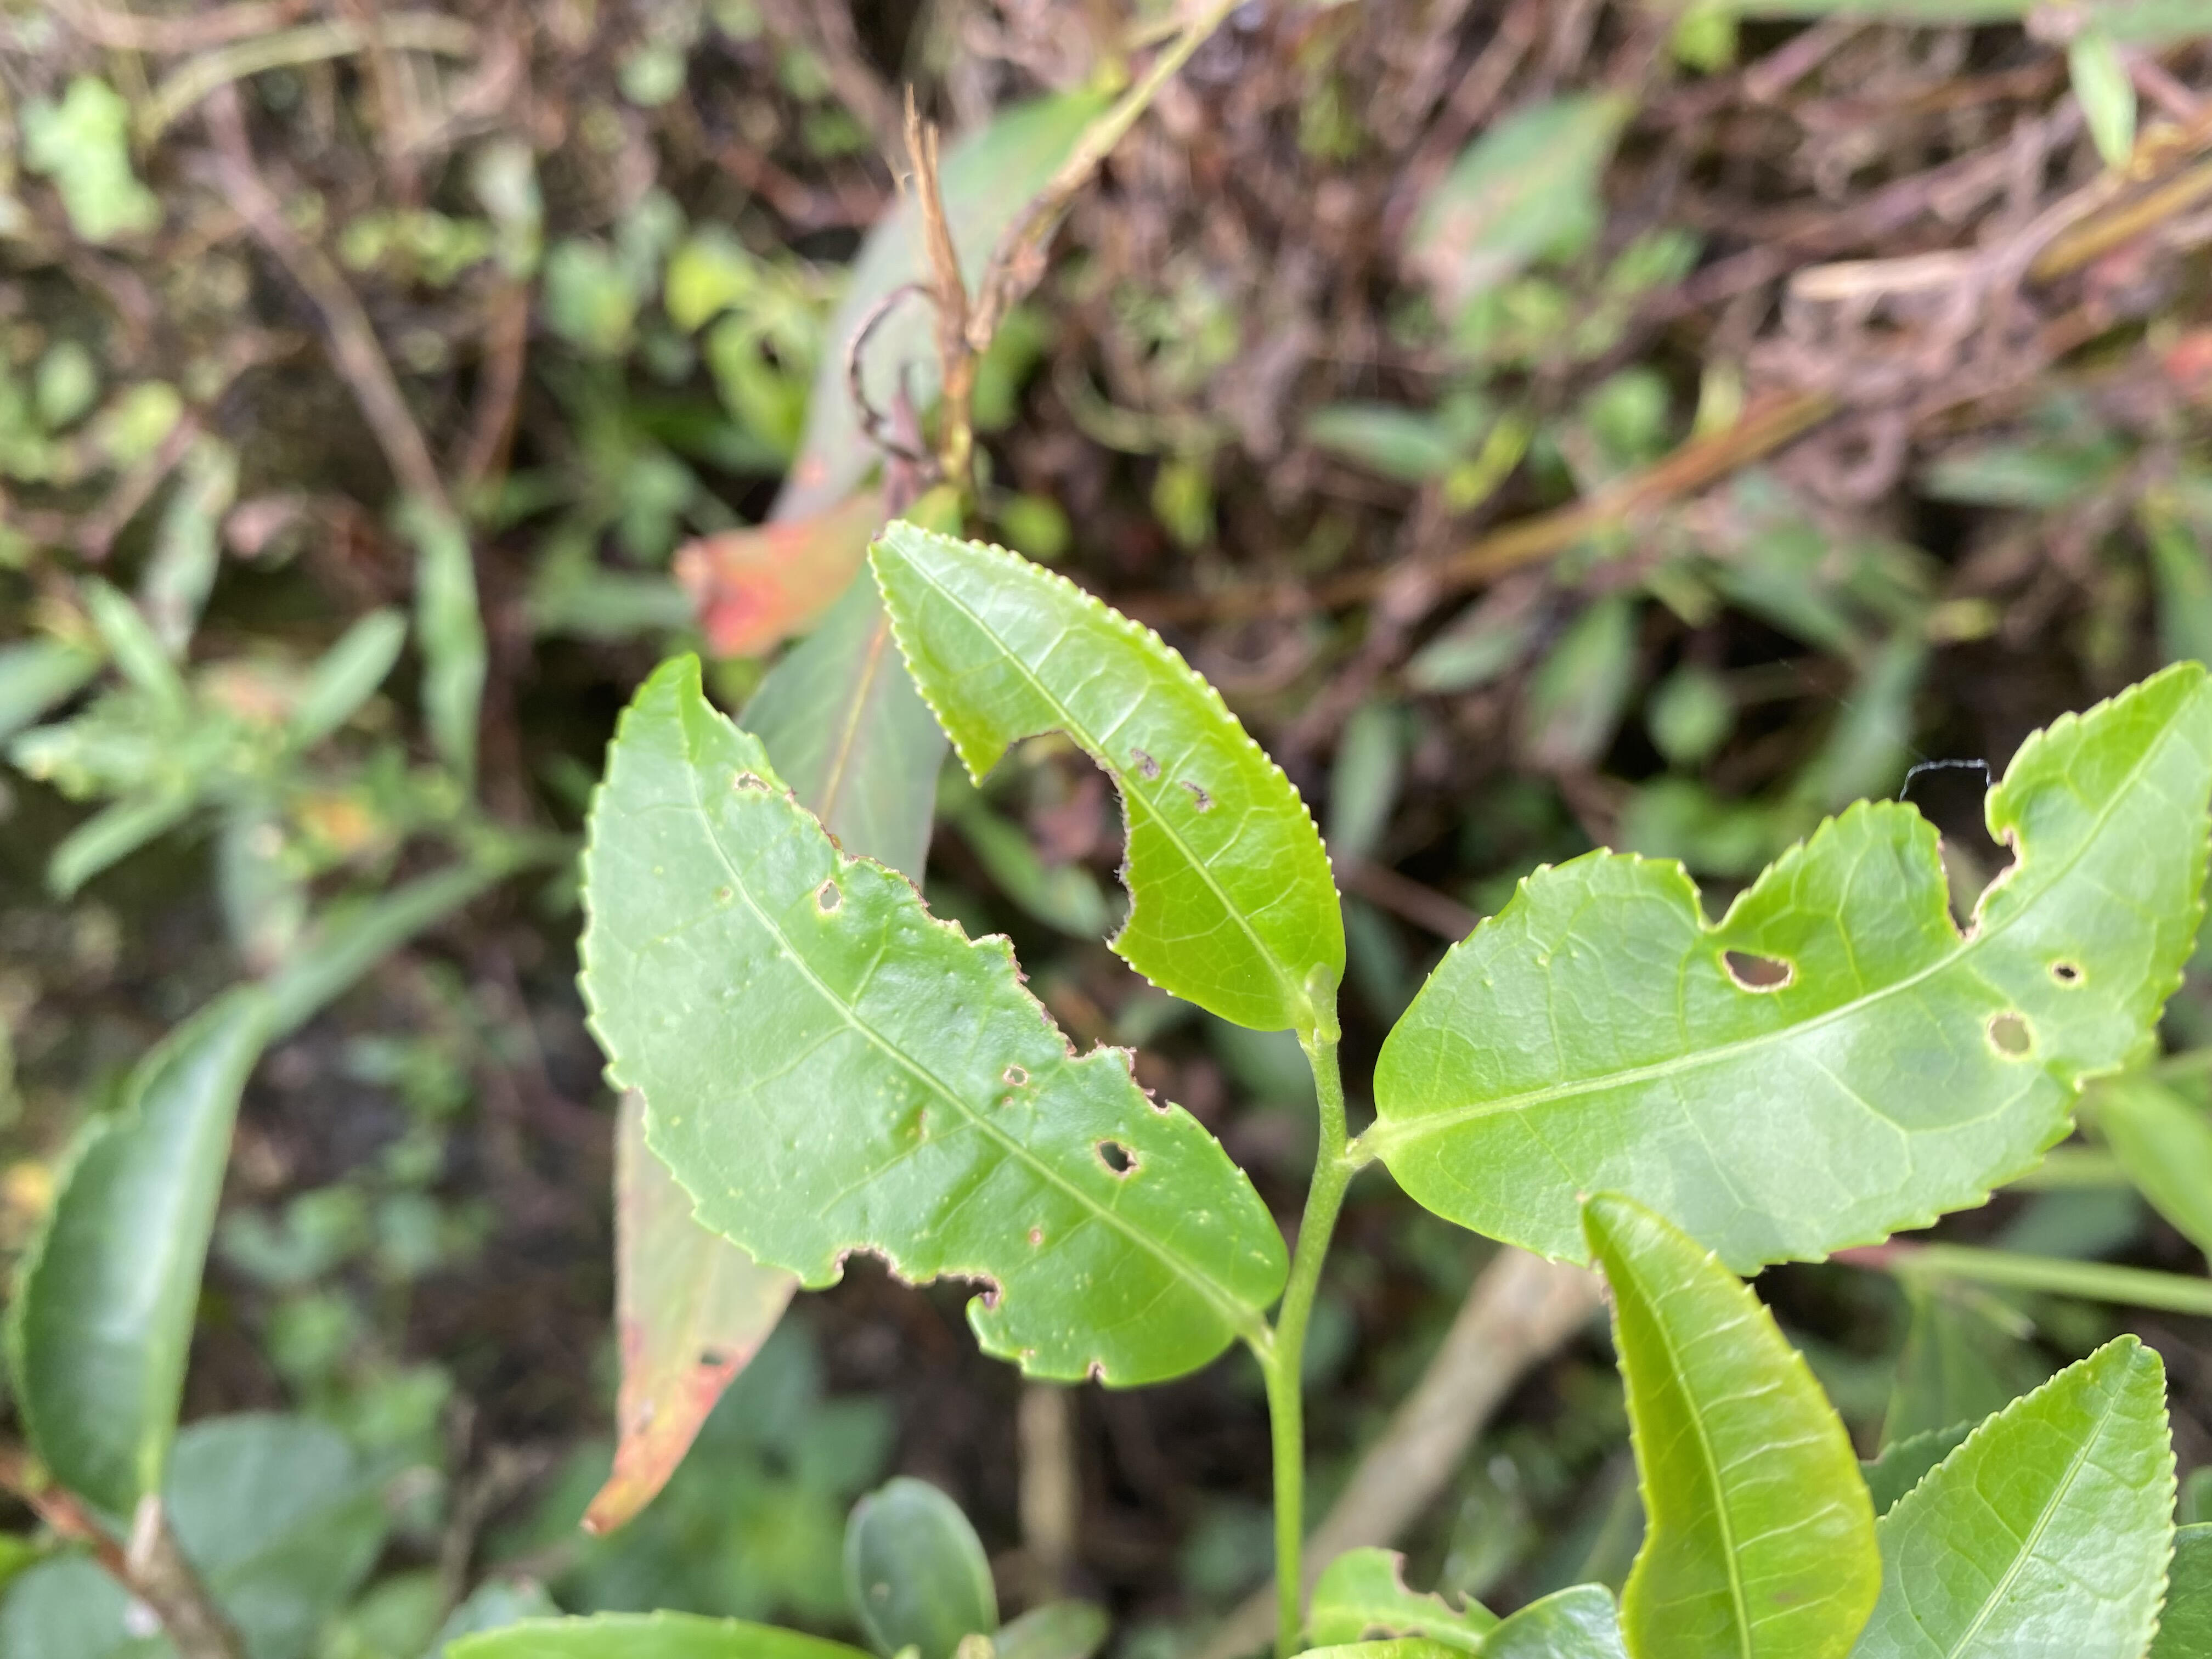chihuo_high: (571, 647, 1291, 1392), (1371, 659, 2210, 1288)
chihuo_low: (866, 519, 1350, 1039)
healthy: (1578, 1190, 1881, 1654), (1876, 1335, 2181, 1657)
